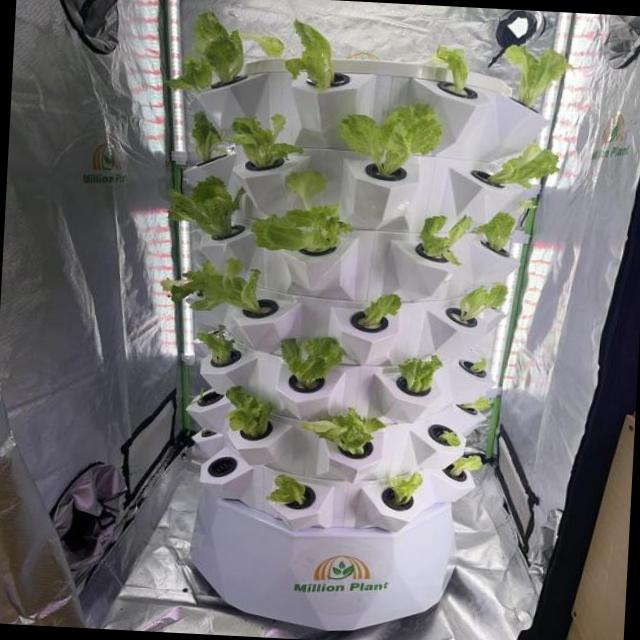Lettuce-Not-Ready-to-Harvest: (419, 215, 473, 265), (460, 282, 509, 322), (398, 355, 443, 394), (473, 211, 515, 251), (197, 331, 242, 368), (436, 45, 469, 93), (358, 294, 402, 330), (192, 110, 222, 161), (386, 471, 424, 507), (268, 475, 306, 505), (449, 455, 484, 478), (459, 396, 493, 413), (468, 356, 488, 373), (442, 431, 461, 447)
Lettuce-Ready-to-Harvest: (171, 11, 285, 91), (251, 171, 354, 253), (340, 103, 443, 174), (161, 258, 271, 314), (168, 176, 246, 240), (298, 409, 386, 459), (503, 45, 567, 109), (228, 113, 304, 166), (285, 20, 334, 89), (280, 337, 343, 389), (487, 144, 559, 187), (225, 386, 273, 439)
